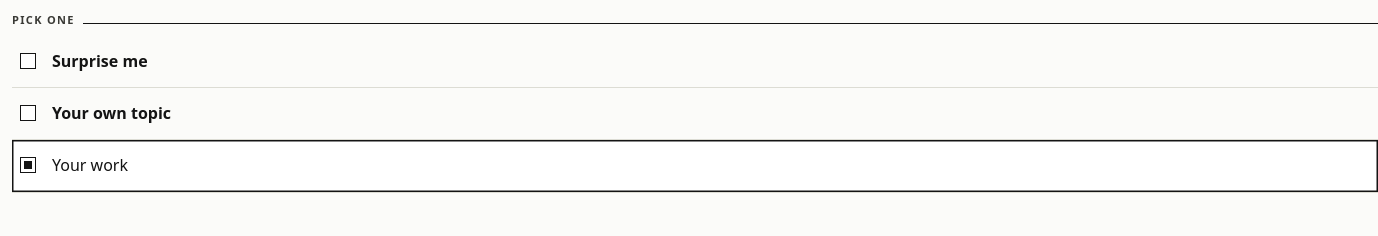
Test: ChoicePicker › shows why generating failed
Click the radio button labelled "Surprise me".
click(28, 61)  # box 20,53 -> 36,69
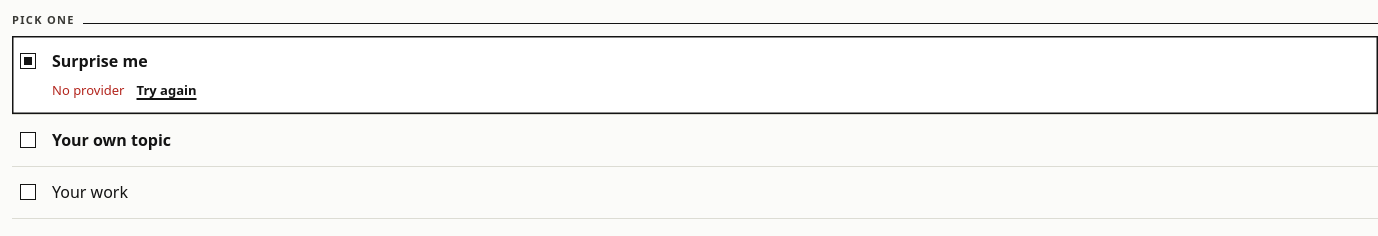
Now the message reads "No provider", box 52,81 -> 124,99
